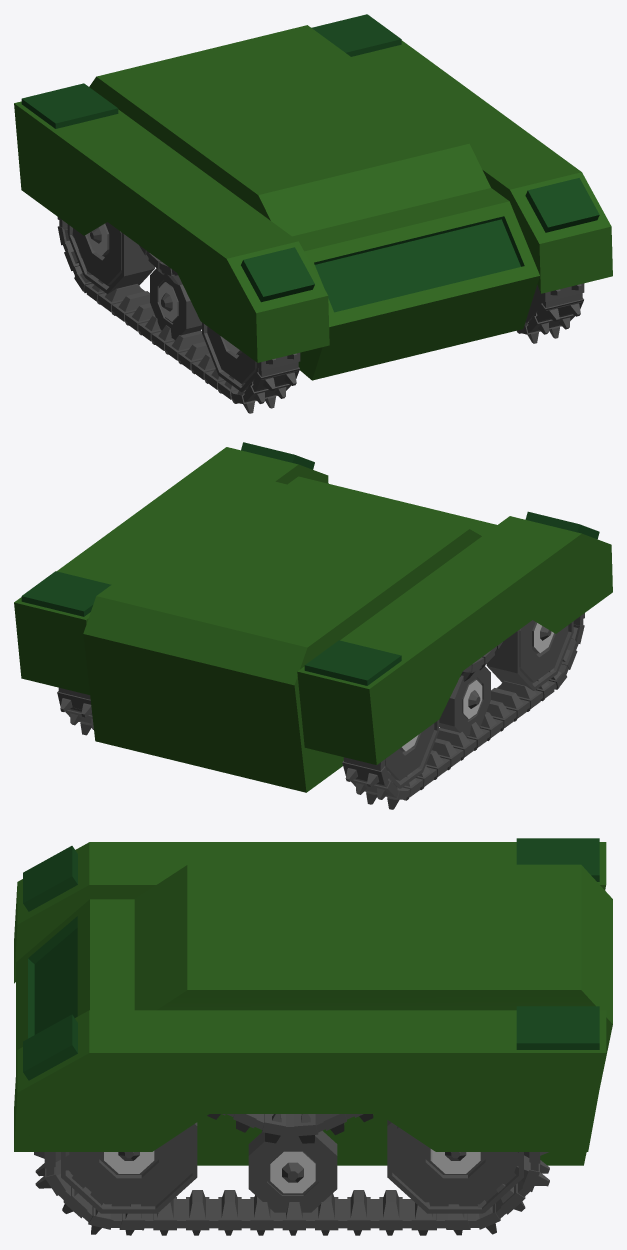
The model's file is proto_tank_static_bottom.fbx.
3 views of the same model, one above another, from view 1: azimuth 30°, elevation 25°; view 2: azimuth 150°, elevation 25°; view 3: azimuth 270°, elevation 25° (orthographic). The views are drawn at different scales.
Parts seen in each view (by area): view 1: 機体; view 2: 機体; view 3: 機体.
Boxes of the visible parts, left/top/right/bottom form: 機体: left=14, top=14, right=612, bottom=413; 機体: left=14, top=442, right=612, bottom=809; 機体: left=14, top=838, right=612, bottom=1235.
Bounding box in the file's own units: 135 × 162 × 64.49.
